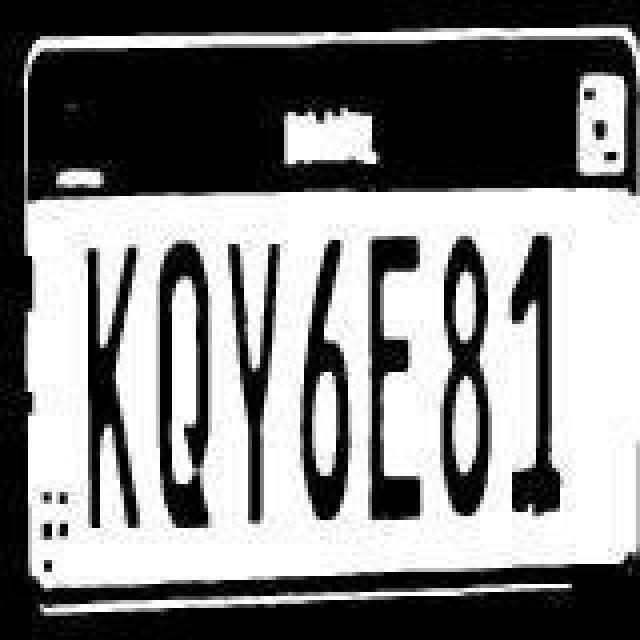1: (504, 226, 568, 518)
6: (294, 226, 362, 526)
8: (432, 228, 496, 524)
E: (364, 236, 428, 532)
K: (80, 232, 144, 544)
Q: (154, 232, 214, 536)
Y: (220, 224, 284, 528)
